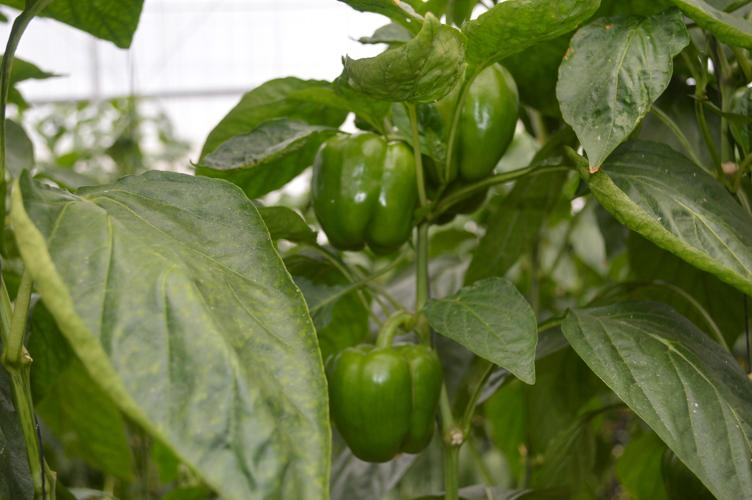BellPepper: (325, 344, 441, 460), (314, 139, 418, 249), (436, 62, 520, 176)
